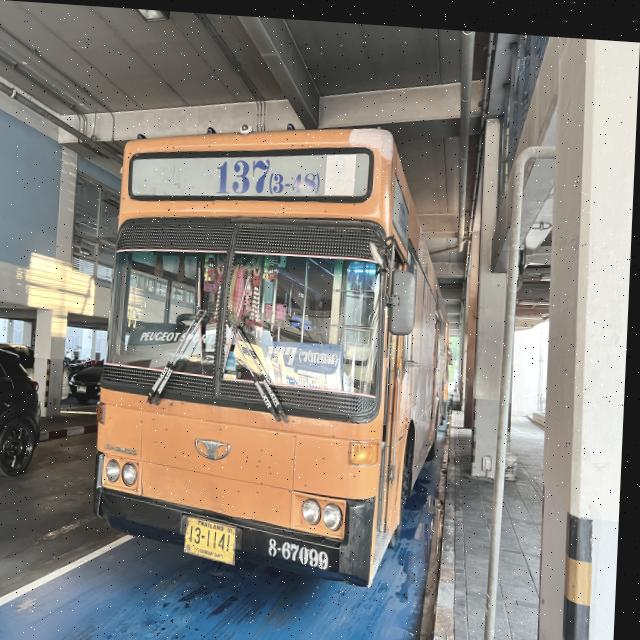BMTA-bus: (96, 123, 452, 583)
Bus Line Number: (214, 151, 323, 196)
Bus Side Number: (270, 531, 338, 571)
Destination Sign: (266, 336, 348, 389)
